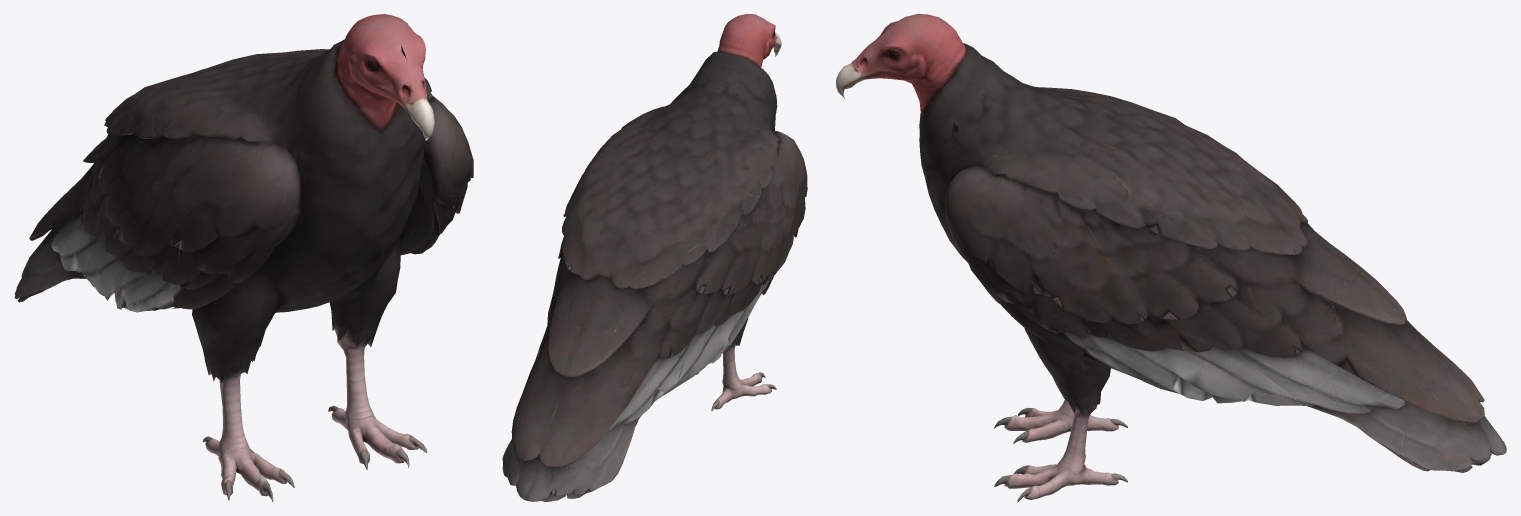
The model's file is vulture-eva.glb.
3 views of the same model, side by side, from view 1: azimuth 30°, elevation 25°; view 2: azimuth 150°, elevation 25°; view 3: azimuth 270°, elevation 25° (orthographic). The views are drawn at different scales.
Visible parts, largest first — view 1: geometry_0; view 2: geometry_0; view 3: geometry_0.
Boxes of the visible parts, <box> form: geometry_0: <box>14,14,473,501</box>; geometry_0: <box>502,14,807,501</box>; geometry_0: <box>836,14,1506,501</box>.
Size of the model in its own units: 0.4258 by 0.6938 by 0.9517.
Materials: 1 (1 with a texture image).
